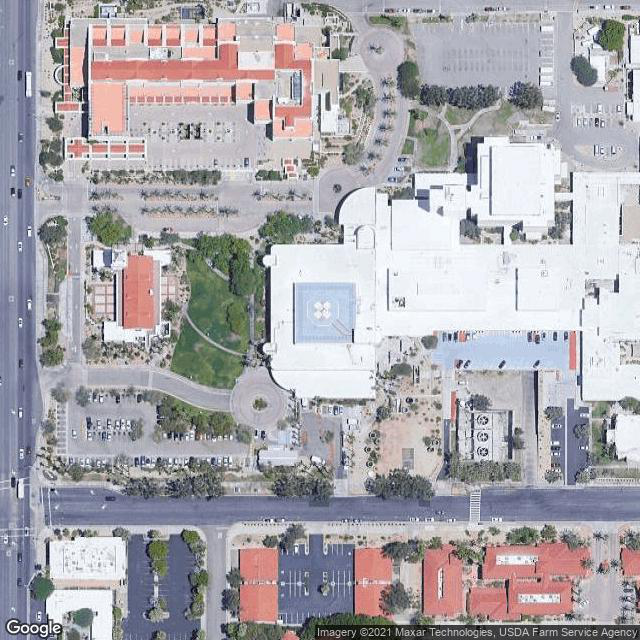Helipad: (303, 292, 346, 329)
